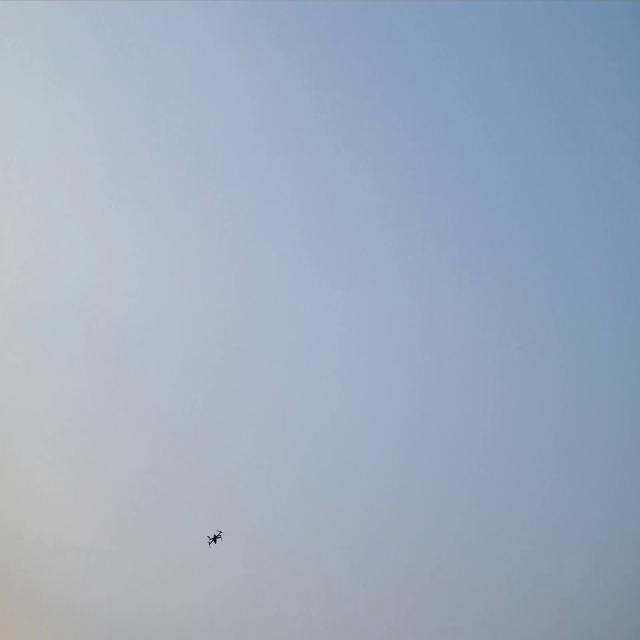UAV: (207, 528, 224, 548)
